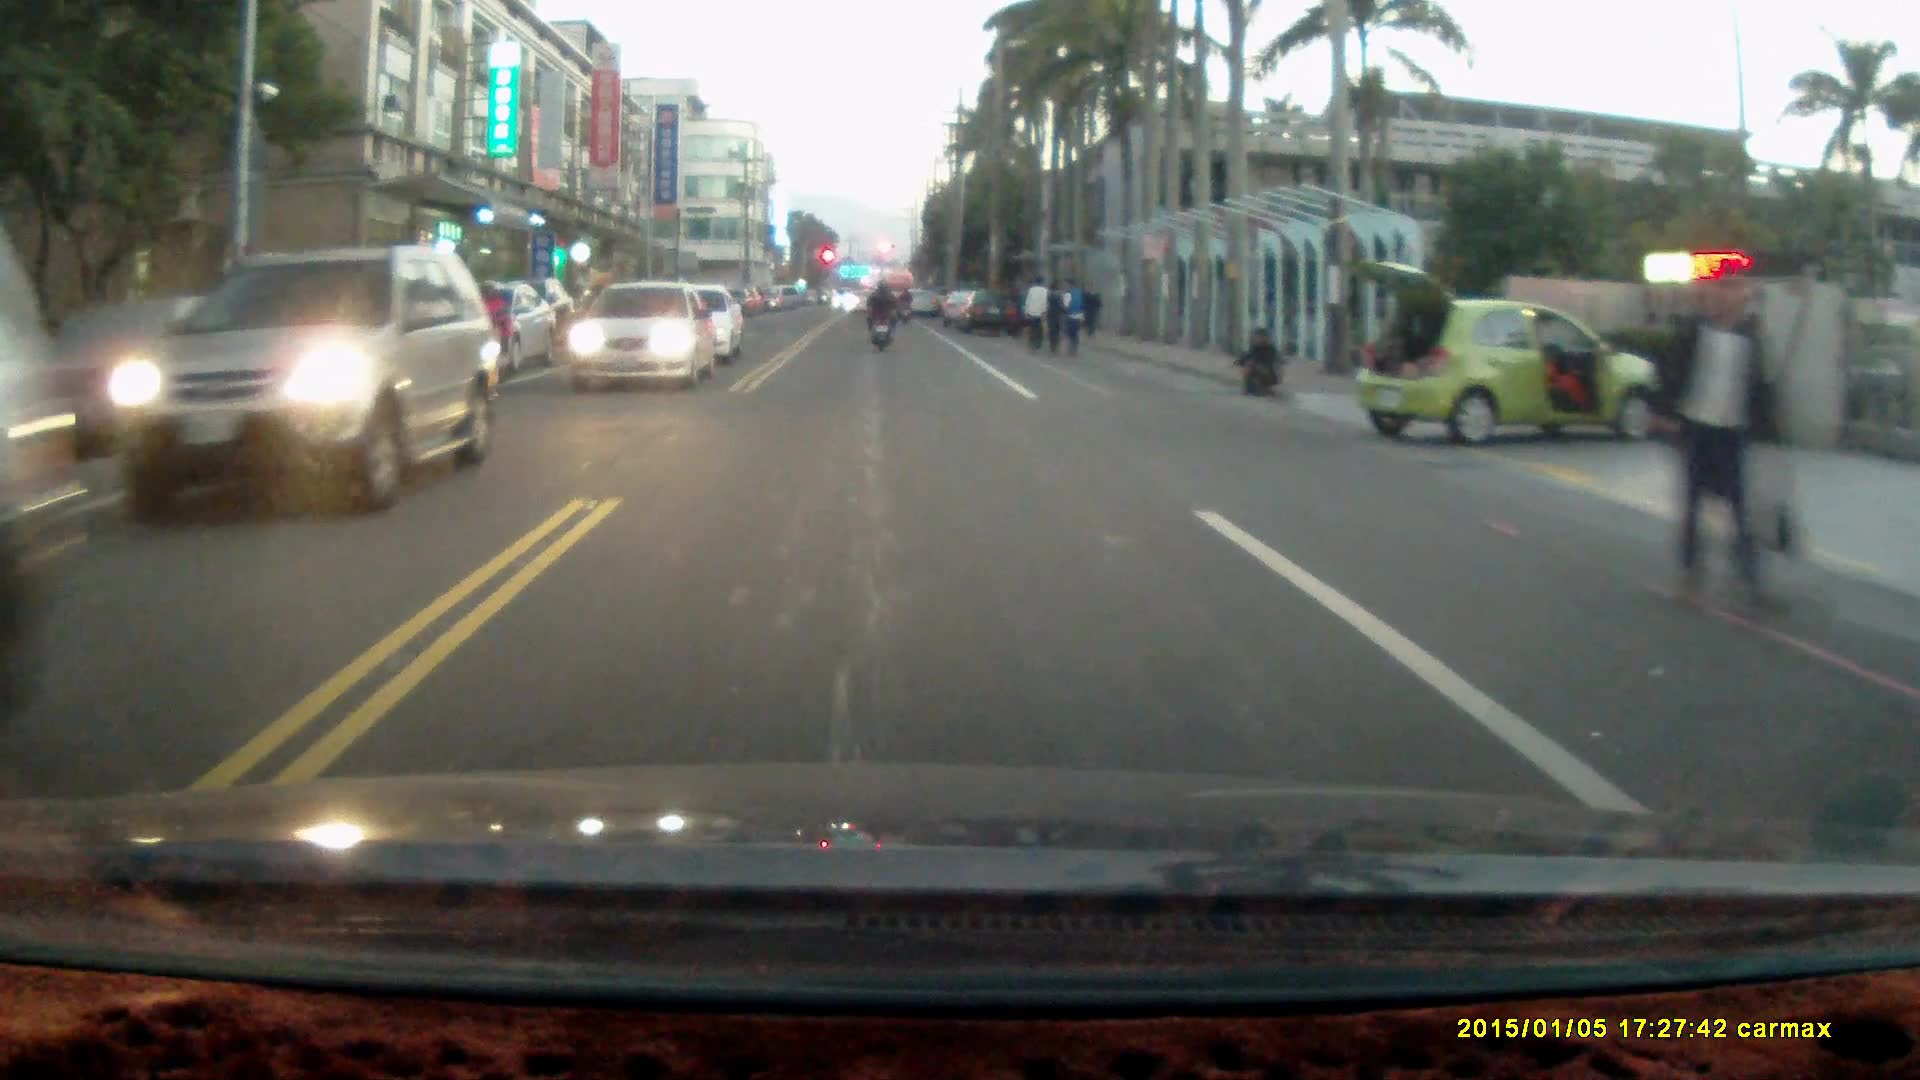pedestrian: (1651, 264, 1785, 615), (1235, 325, 1283, 401), (1053, 274, 1087, 356), (1022, 275, 1049, 358), (1041, 280, 1068, 358)
rider: (862, 276, 898, 354)
vehicle: (94, 243, 490, 518), (1354, 262, 1658, 447), (563, 281, 713, 399), (957, 289, 1023, 339)
